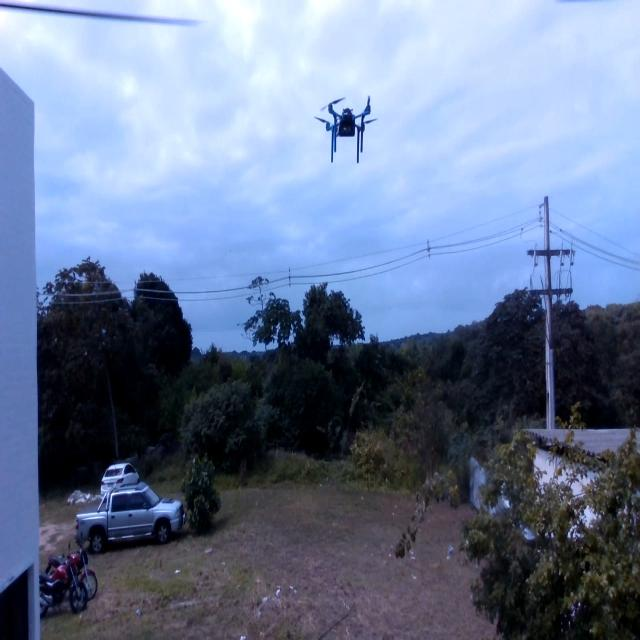-uav-: (306, 80, 384, 178)
